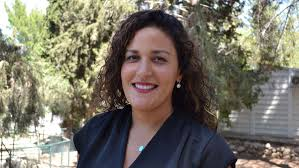middle_eastern_Female: (110, 12, 193, 119)
